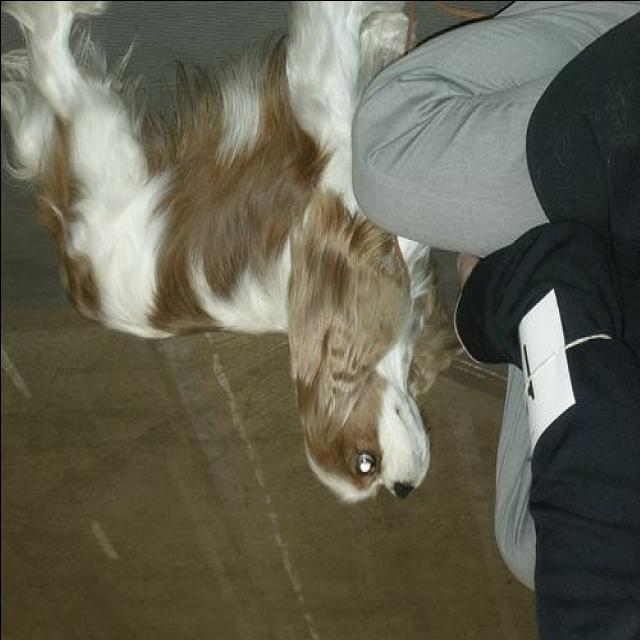blenheim_spaniel: (3, 1, 444, 508)
